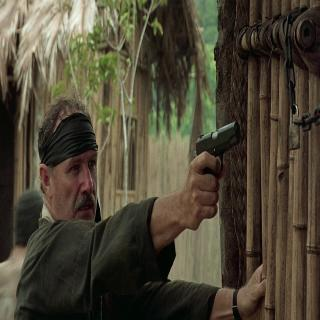gun: (190, 117, 241, 232)
